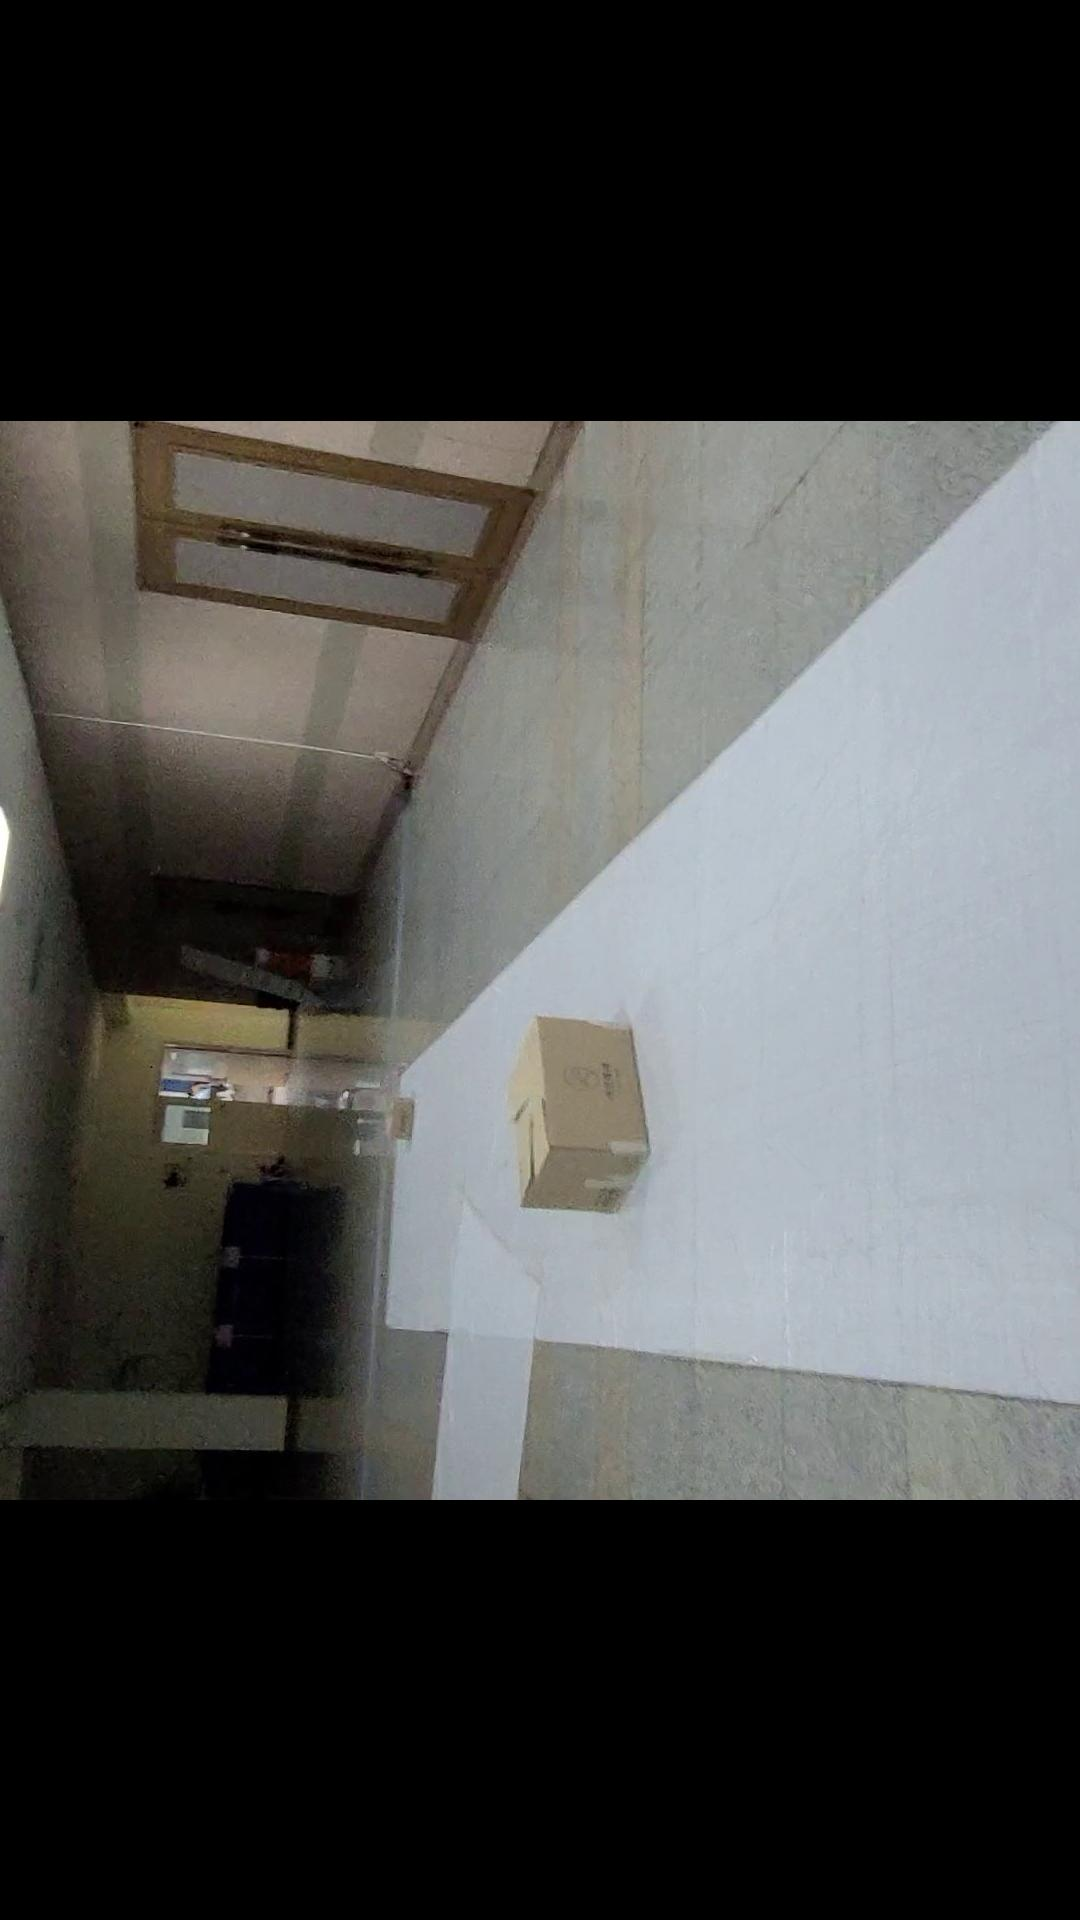Box: (488, 982, 688, 1247), (368, 1073, 430, 1156)
